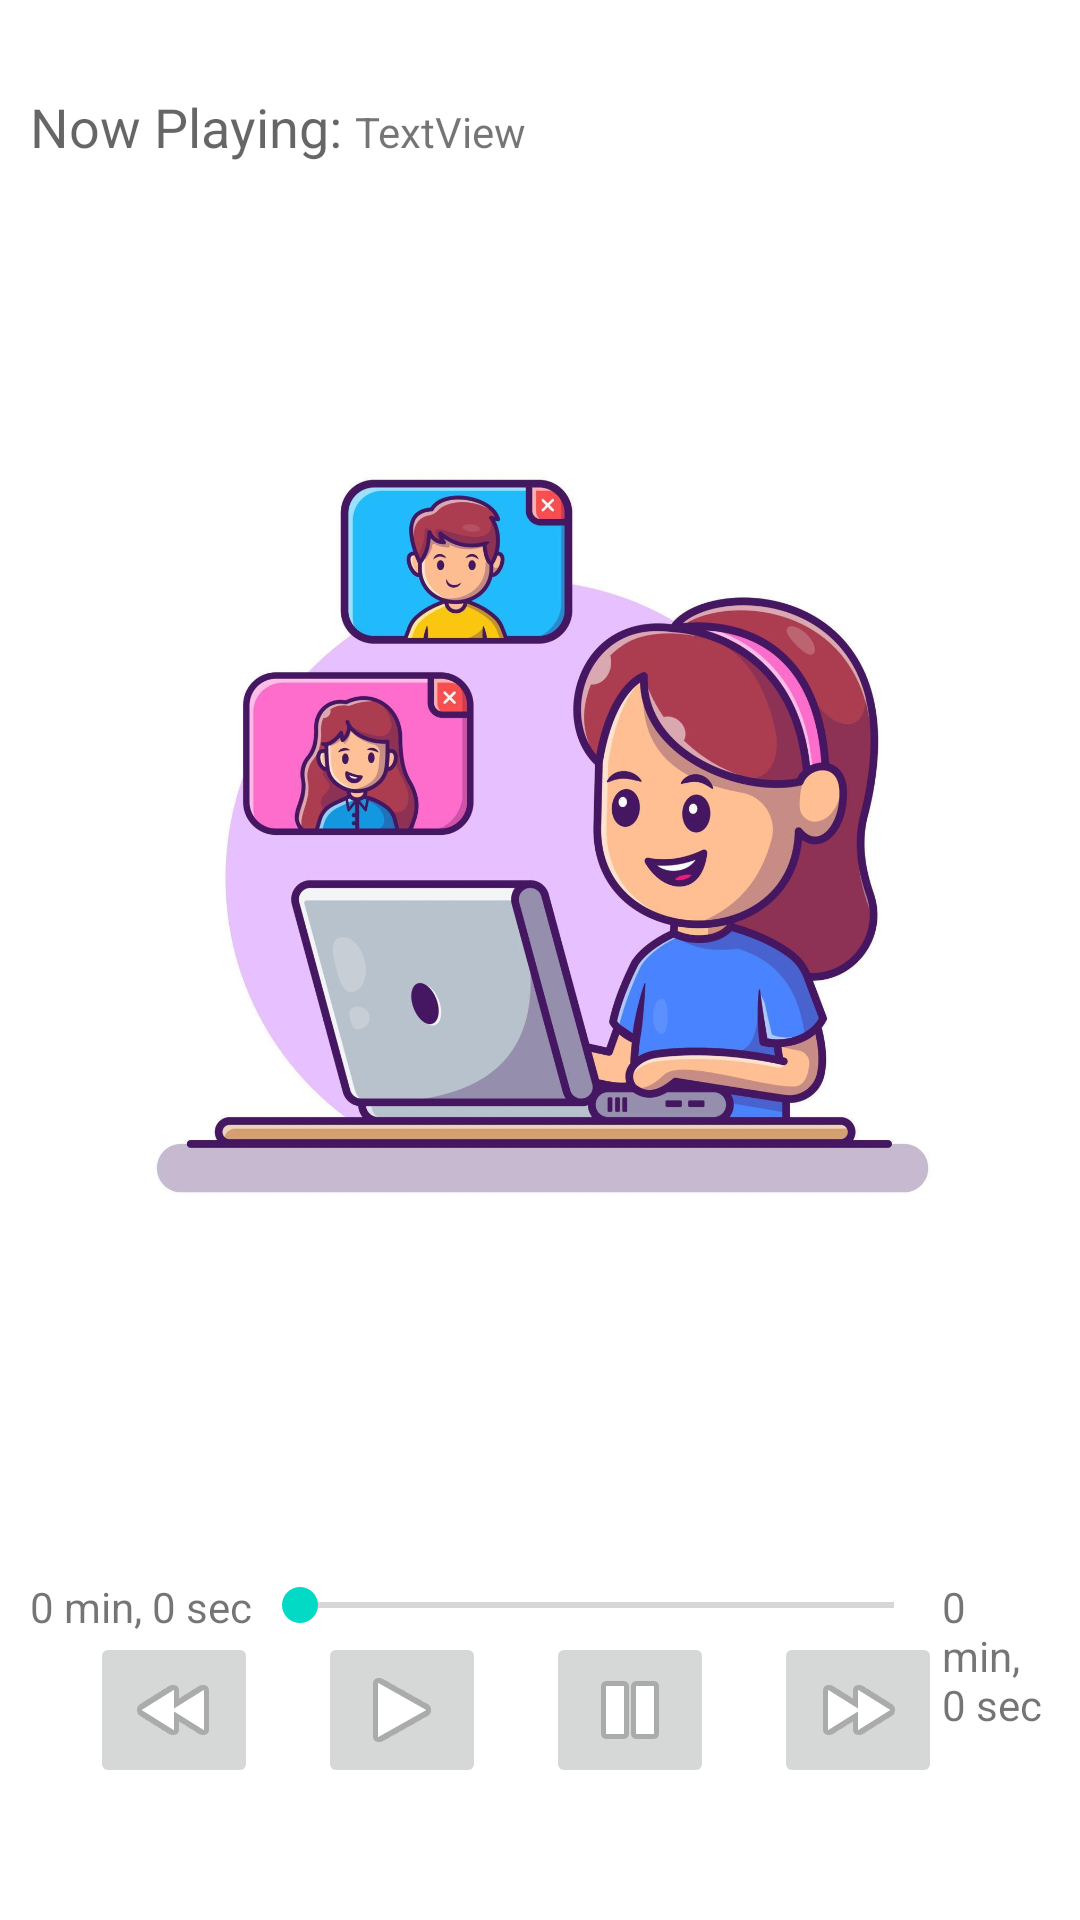

Where icons sit on this 1080 × 1920 app screen, as (x1, y1, x2, y2):
pause: (558, 1650, 702, 1770)
play: (330, 1650, 474, 1770)
rew: (102, 1650, 246, 1770)
